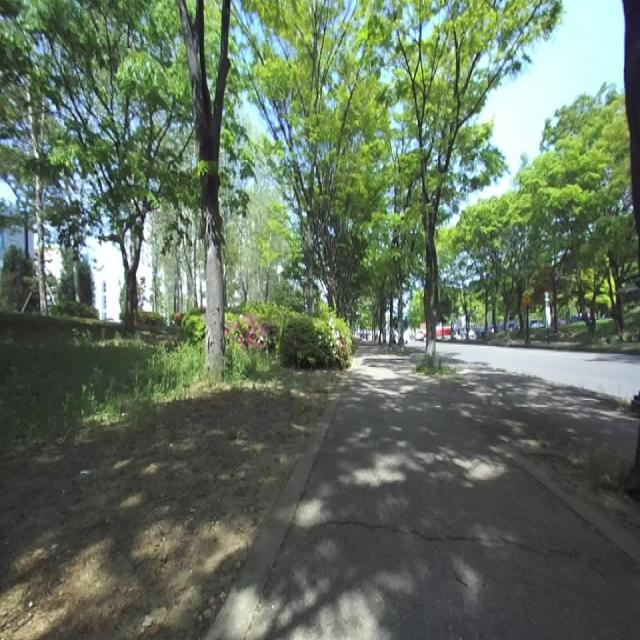sidewalk: (248, 346, 640, 639), (206, 379, 344, 640)
